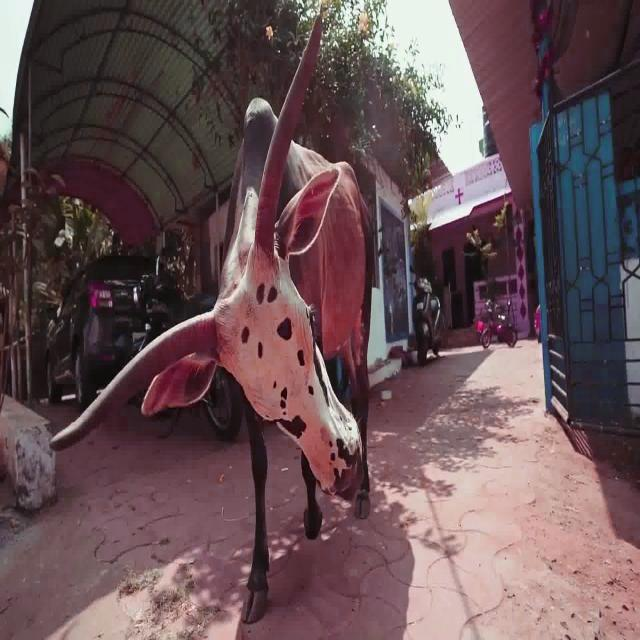cow: (51, 18, 370, 623)
